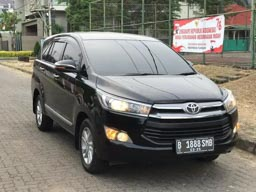plat: (178, 139, 214, 147)
